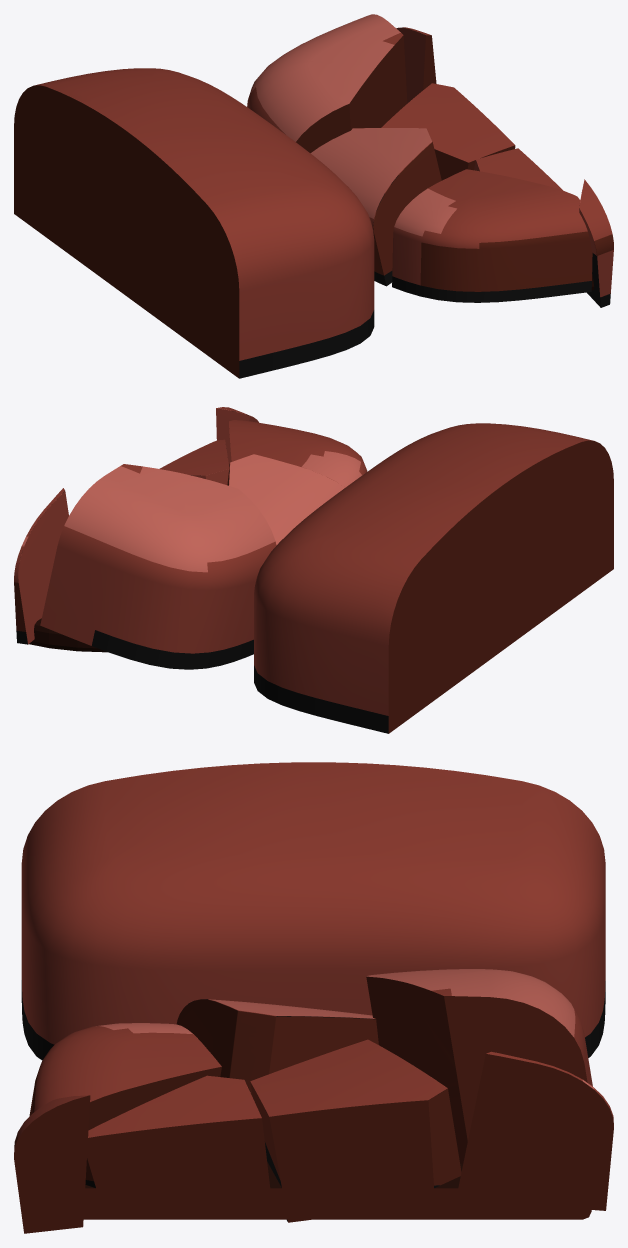
File: block_half_rubble.glb
The picture shows the model from 3 angles, top to bottom: view 1: azimuth 30°, elevation 25°; view 2: azimuth 150°, elevation 25°; view 3: azimuth 270°, elevation 25°; orthographic projection. The views are drawn at different scales.
Visible parts, largest first — view 1: block_half_rubble; view 2: block_half_rubble; view 3: block_half_rubble.
Boxes of the visible parts, <box> form: block_half_rubble: <box>14,14,613,378</box>; block_half_rubble: <box>14,407,613,733</box>; block_half_rubble: <box>14,762,613,1233</box>.
Size of the model in its own units: 24 by 11.49 by 25.9.
